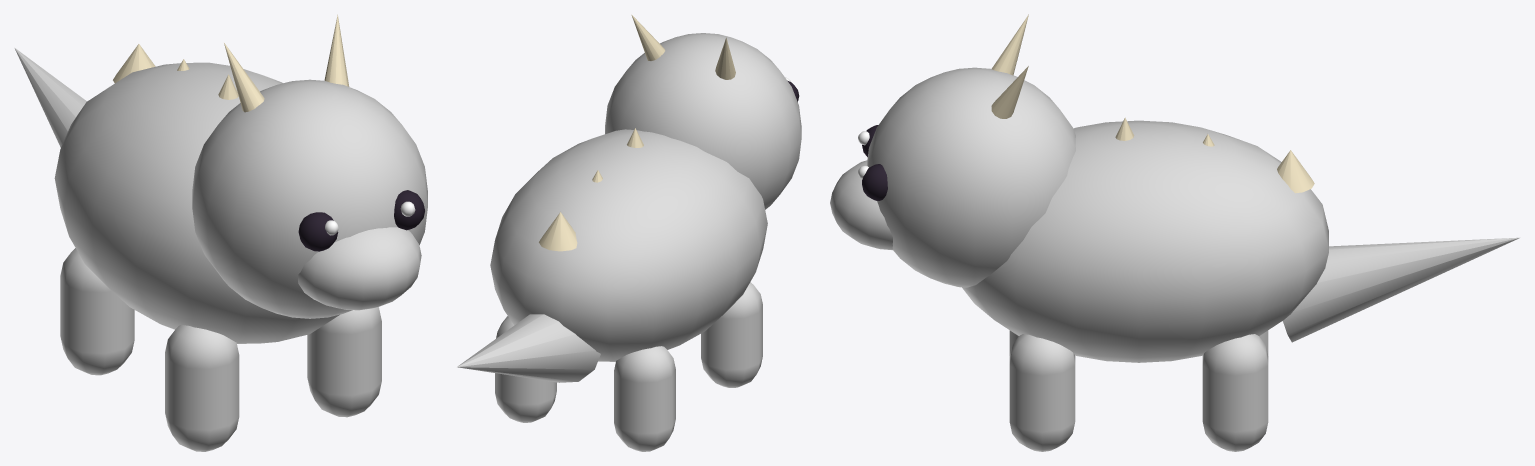
The model's file is pet_dragon_ph.glb.
The picture shows the model from 3 angles, left to right: view 1: azimuth 30°, elevation 25°; view 2: azimuth 150°, elevation 25°; view 3: azimuth 270°, elevation 25°; orthographic projection. The views are drawn at different scales.
Visible parts, largest first — view 1: pet_dragon; view 2: pet_dragon; view 3: pet_dragon.
Part boxes in pixels (x1,y1,x2,y2): pet_dragon: [14, 14, 427, 451]; pet_dragon: [457, 14, 801, 451]; pet_dragon: [830, 14, 1519, 451].
Size of the model in its own units: 0.4 by 0.6033 by 1.
